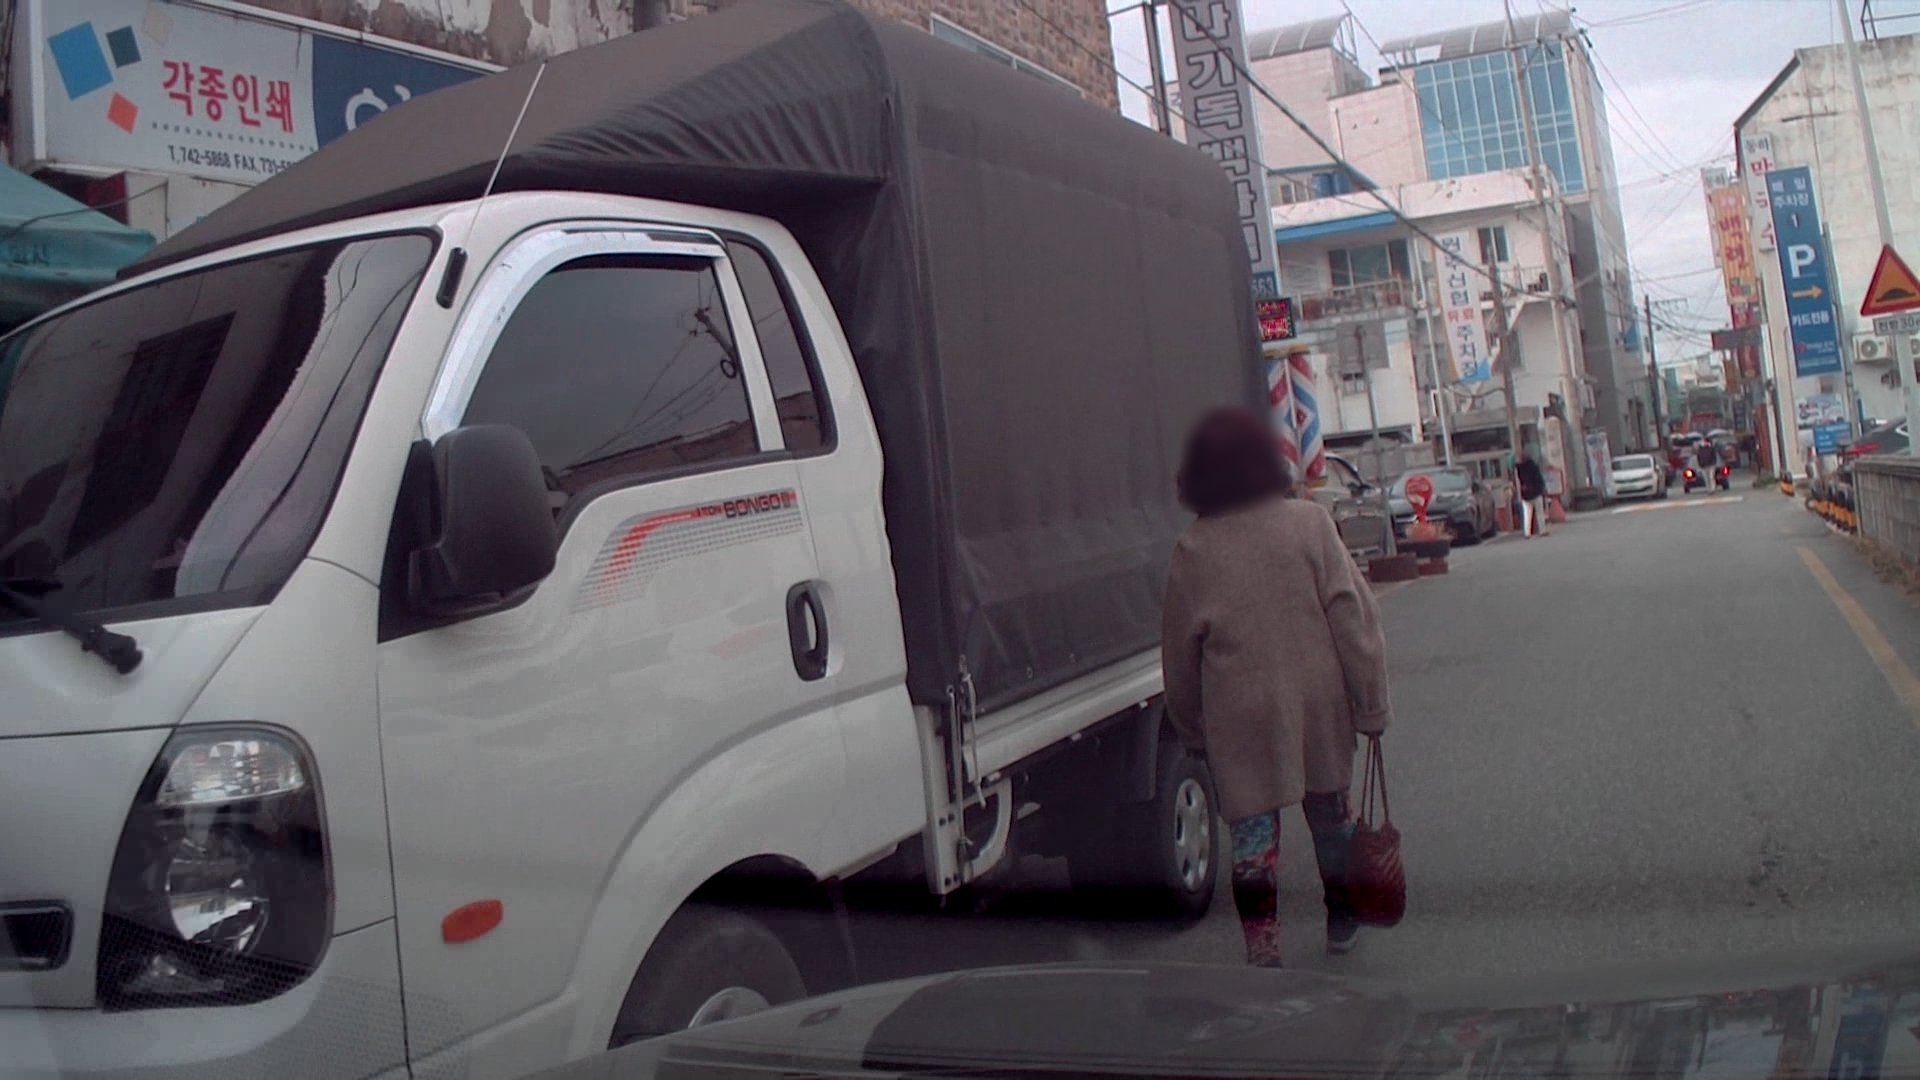trafficSignTri: (1855, 243, 1920, 334)
